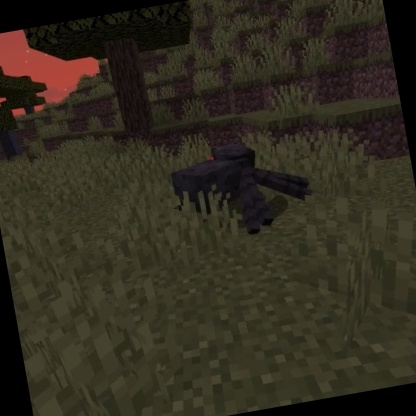spider: (163, 125, 320, 251)
